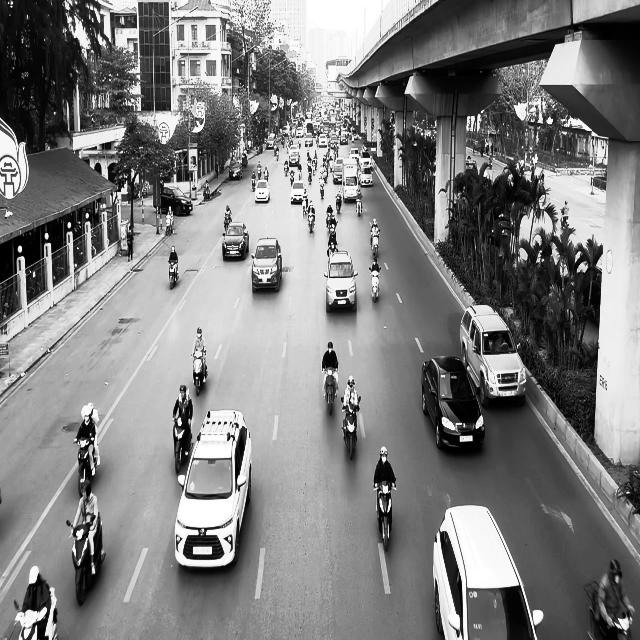car: (432, 504, 544, 640), (174, 409, 252, 569), (459, 303, 526, 408), (421, 355, 485, 451), (323, 250, 358, 312), (251, 237, 282, 292), (153, 184, 193, 216), (222, 222, 248, 260), (290, 180, 307, 203), (255, 179, 270, 203), (228, 160, 242, 180)
motorbike: (66, 514, 106, 605), (374, 481, 396, 551), (74, 436, 96, 497), (341, 395, 360, 460), (172, 415, 193, 473), (322, 364, 338, 415), (191, 348, 207, 396), (368, 264, 381, 302), (168, 260, 178, 288), (370, 228, 379, 256), (307, 210, 315, 232), (356, 193, 362, 216)
